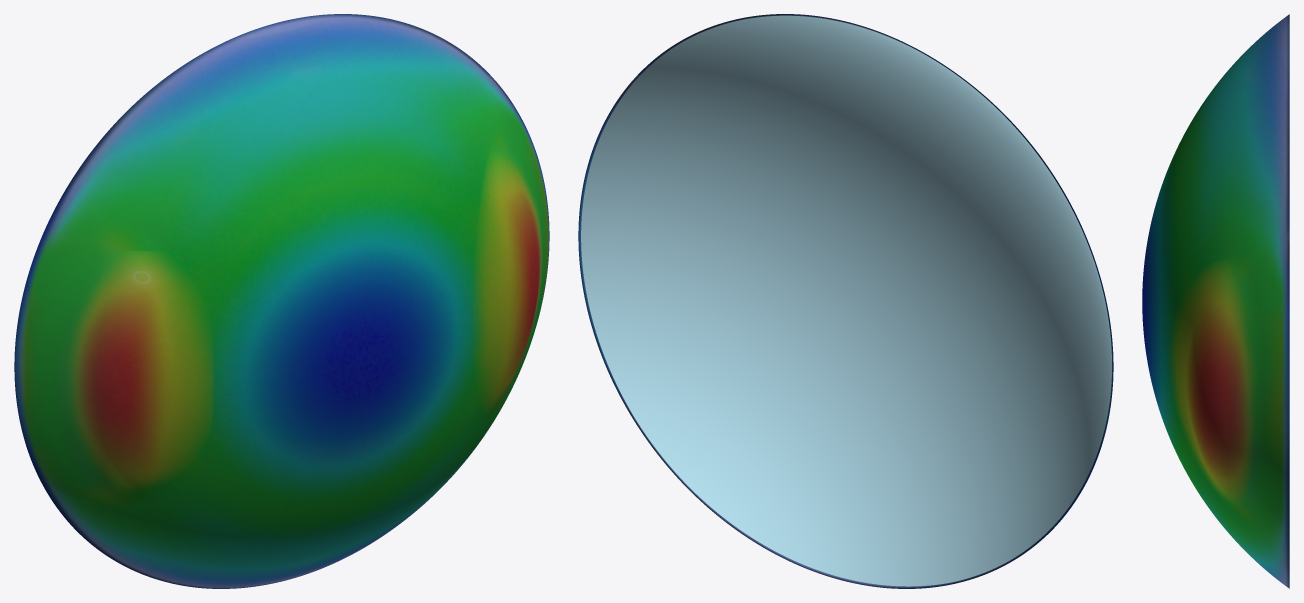
The model's file is lens_heatmap.glb.
3 views of the same model, side by side, from view 1: azimuth 30°, elevation 25°; view 2: azimuth 150°, elevation 25°; view 3: azimuth 270°, elevation 25° (orthographic). The views are drawn at different scales.
Visible parts, largest first — view 1: lens; view 2: 오브젝트, lens; view 3: lens.
Part boxes in pixels (x1,y1,x2,y2): lens: [14, 14, 549, 588]; 오브젝트: [581, 15, 1111, 586]; lens: [578, 14, 1113, 588]; lens: [1142, 14, 1289, 588].
Size of the model in its own units: 0.0999 by 0.0999 by 0.0256.
Materials: 2 (1 with a texture image).
